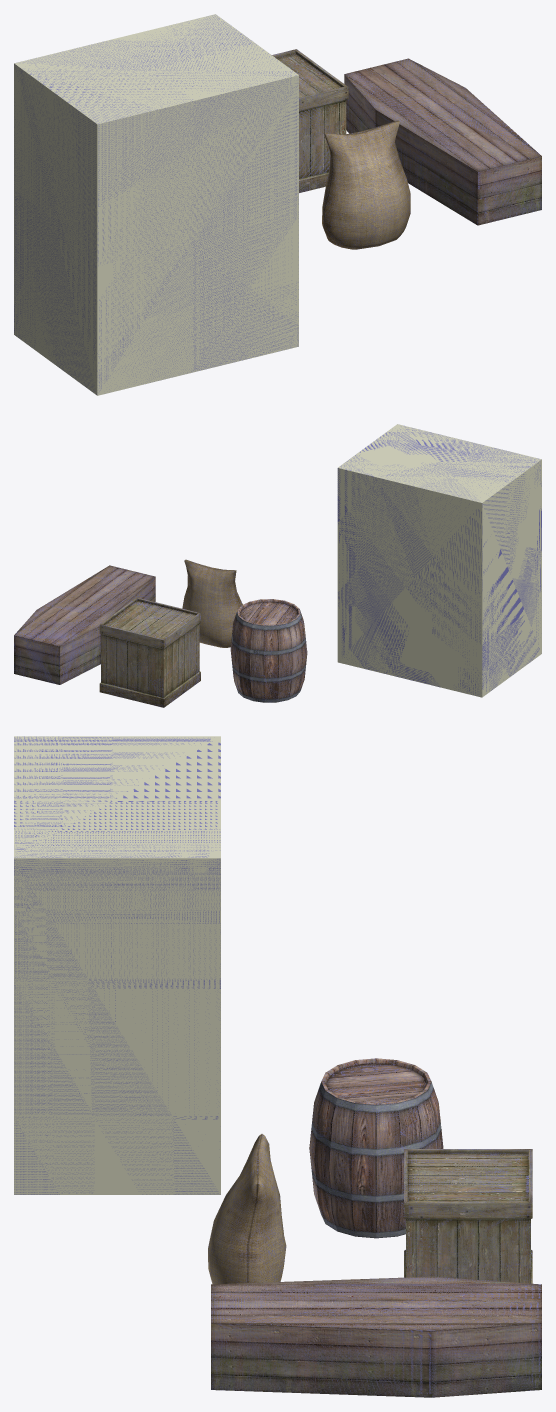
3 renders of one model, top to bottom at view 1: azimuth 30°, elevation 25°; view 2: azimuth 150°, elevation 25°; view 3: azimuth 270°, elevation 25°, orthographic. The views are drawn at different scales.
Parts seen in each view (by area): view 1: SketchUp, CoffinBox01, GrainSack01, SquareBox01; view 2: SketchUp, SquareBox01, CoffinBox01, Barrel, GrainSack01; view 3: SketchUp, CoffinBox01, Barrel, SquareBox01, GrainSack01.
Boxes of the visible parts, x1,y1,x2,y2 form: SketchUp: (14, 14, 298, 395); CoffinBox01: (344, 58, 541, 225); GrainSack01: (322, 120, 410, 249); SquareBox01: (272, 49, 348, 192); SketchUp: (337, 424, 541, 697); SquareBox01: (99, 597, 200, 707); CoffinBox01: (14, 565, 155, 684); Barrel: (230, 599, 307, 702); GrainSack01: (182, 559, 242, 647); SketchUp: (14, 736, 220, 1194); CoffinBox01: (211, 1276, 541, 1397); Barrel: (309, 1058, 443, 1238); SquareBox01: (404, 1149, 532, 1283); GrainSack01: (208, 1134, 286, 1284).
Bounding box in the file's own units: 164 × 113 × 79.63.
6 materials, 4 textured.
